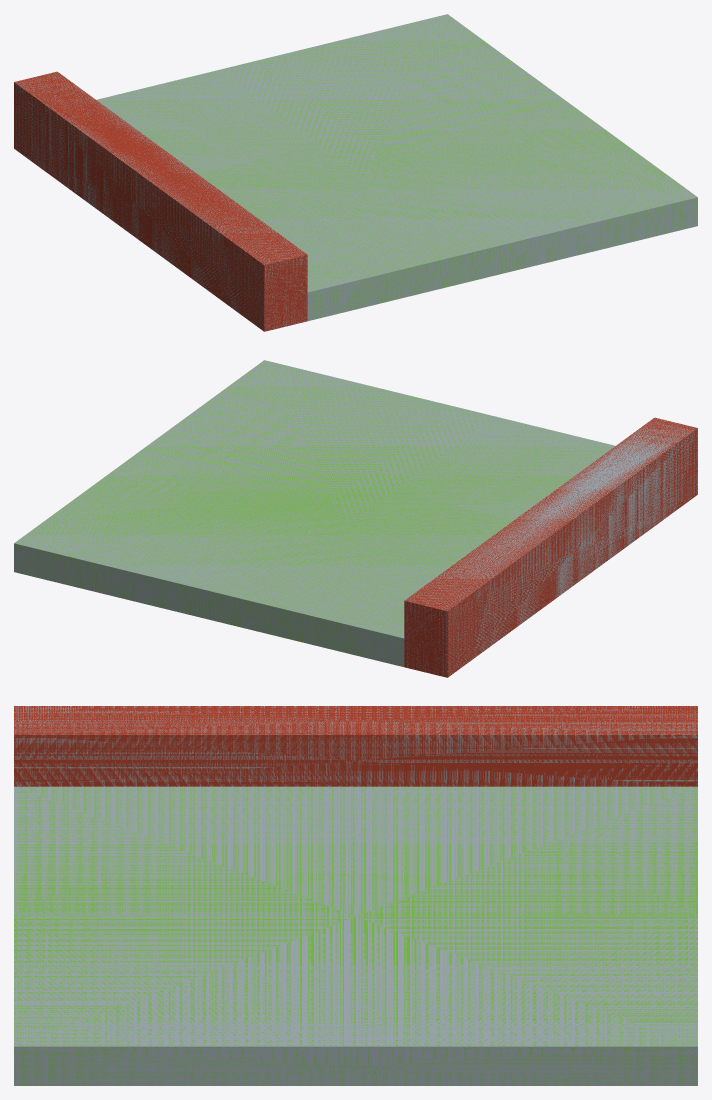
The model's file is Side_01.fbx.
The picture shows the model from 3 angles, top to bottom: view 1: azimuth 30°, elevation 25°; view 2: azimuth 150°, elevation 25°; view 3: azimuth 270°, elevation 25°; orthographic projection. The views are drawn at different scales.
Parts seen in each view (by area): view 1: Mesh1_Side Model; view 2: Mesh1_Side Model; view 3: Mesh1_Side Model.
Boxes of the visible parts, x1,y1,x2,y2 form: Mesh1_Side Model: (14,14,697,331); Mesh1_Side Model: (14,360,697,677); Mesh1_Side Model: (14,706,697,1085).
Bounding box in the file's own units: 3 × 0.44 × 3.
